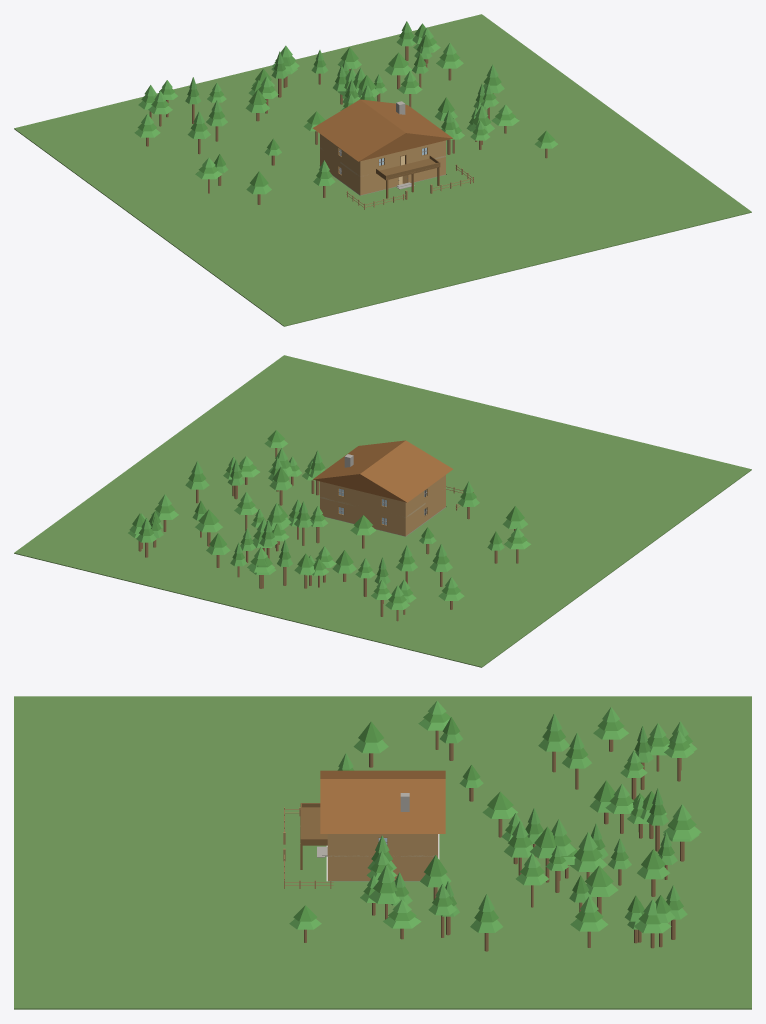
The model's file is tavern_claude.fbx.
3 views of the same model, one above another, from view 1: azimuth 30°, elevation 25°; view 2: azimuth 150°, elevation 25°; view 3: azimuth 270°, elevation 25° (orthographic). The views are drawn at different scales.
Parts seen in each view (by area): view 1: tavern_export; view 2: tavern_export; view 3: tavern_export.
Boxes of the visible parts, x1,y1,x2,y2 form: tavern_export: [14, 14, 751, 326]; tavern_export: [14, 355, 751, 667]; tavern_export: [14, 696, 751, 1009].
Size of the model in its own units: 12000 by 1701 by 12000.
